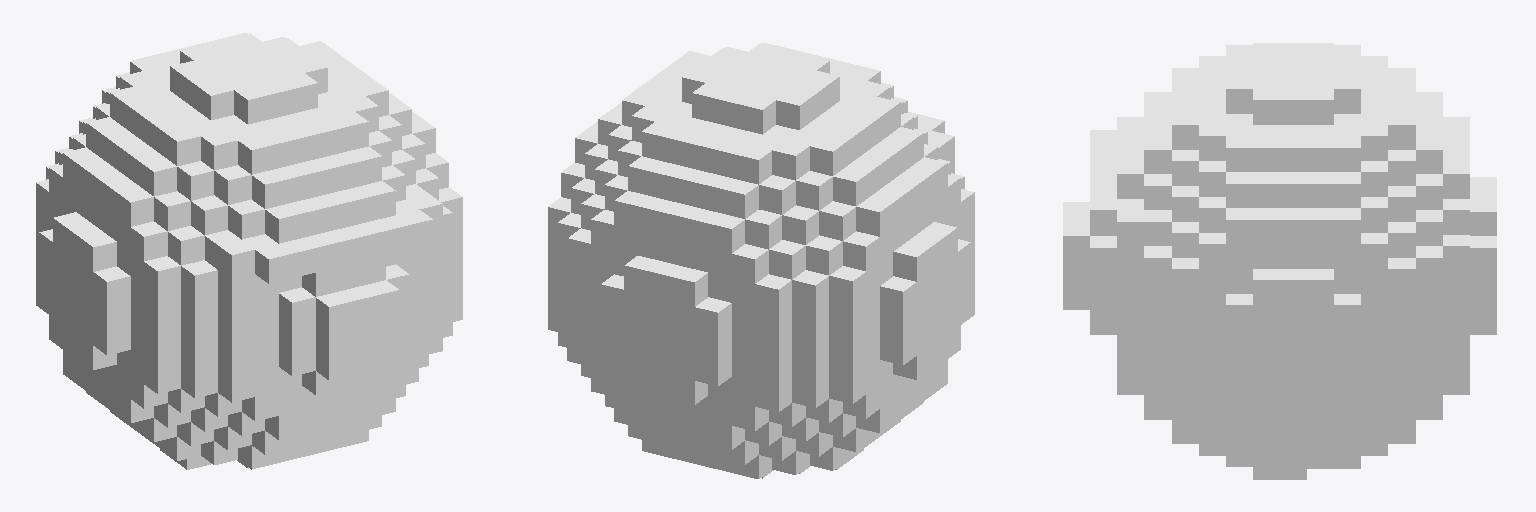
The model's file is DuoCherrycara1.obj.
The picture shows the model from 3 angles: view 1: azimuth 30°, elevation 25°; view 2: azimuth 150°, elevation 25°; view 3: azimuth 270°, elevation 25°; orthographic projection.
Visible parts, largest first — view 1: object 1; view 2: object 1; view 3: object 1.
Part boxes in pixels (bbox=[...]): object 1: bbox=[36, 33, 462, 469]; object 1: bbox=[548, 42, 974, 478]; object 1: bbox=[1063, 43, 1496, 479].
Size of the model in its own units: 1.5 by 1.5 by 1.6.